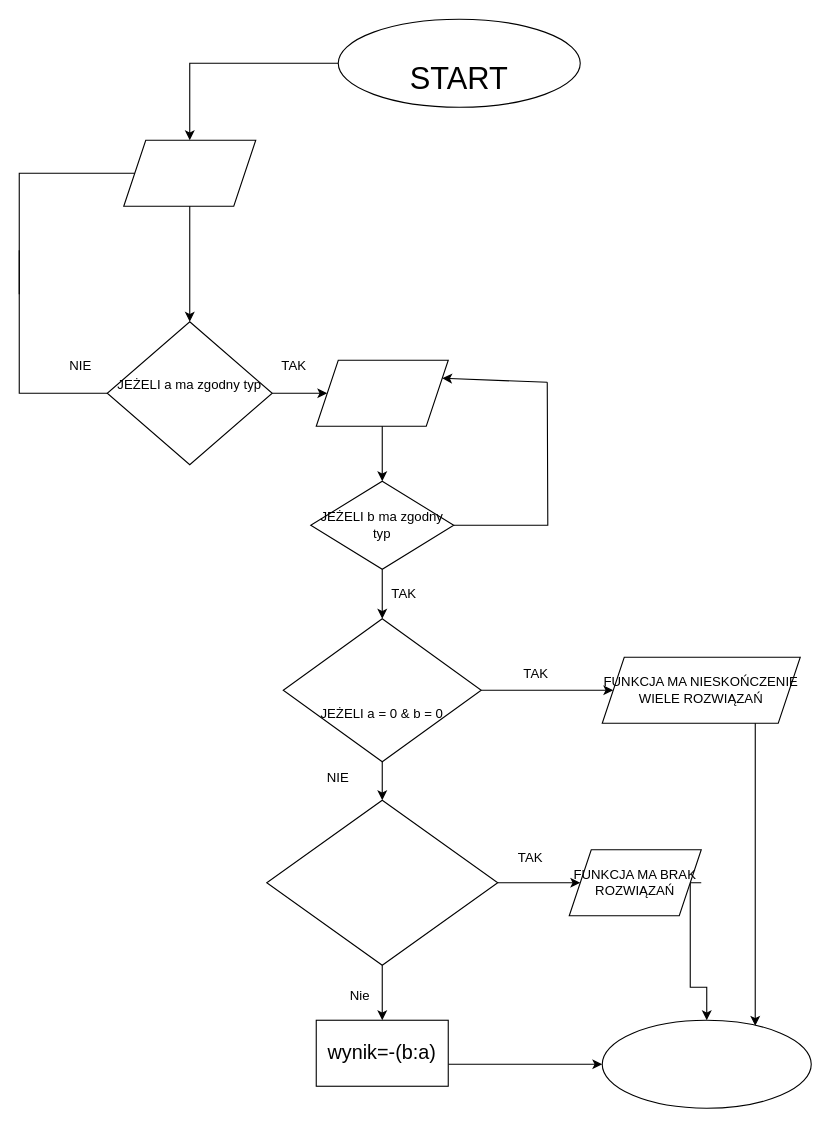
Image size: 831x1128. Some labels were removed from this diagram. Each missing label, with the centre of its shape:
"JEŻELI a=0 & b!=0" belongs at (382,882).
"STOP" belongs at (706,1063).
"WPROWADŹ(a)" belongs at (189,172).
"WPROWADŻ(b)" belongs at (381,392).
